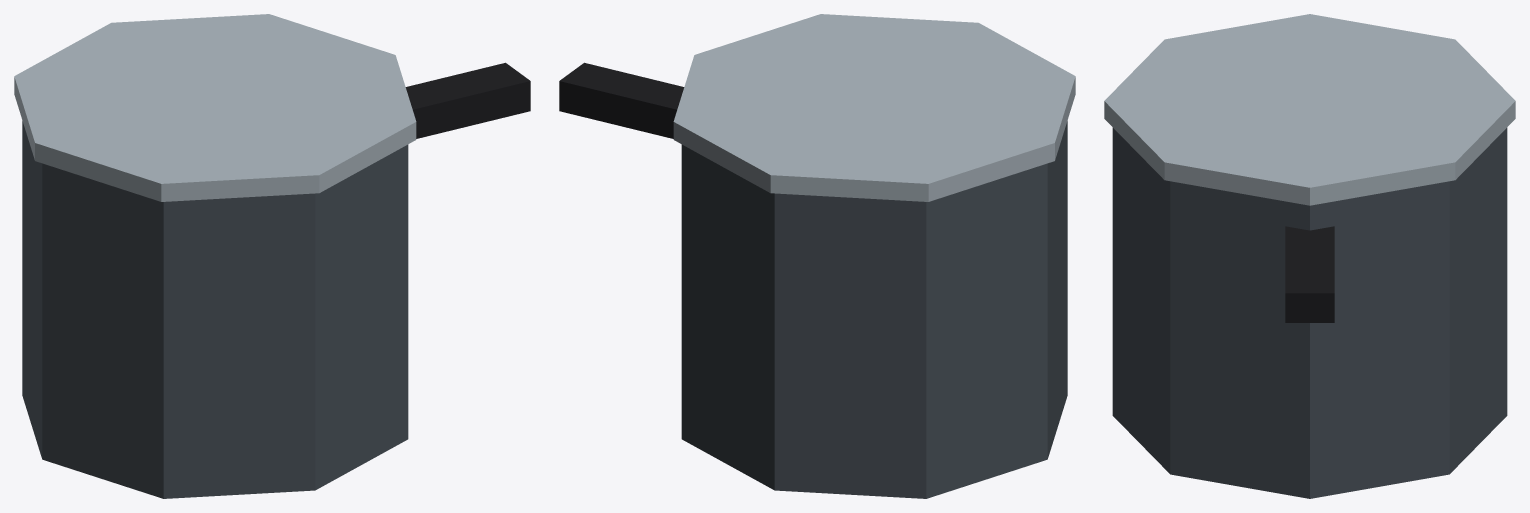
File: GH_Pot_01.glb
3 renders of one model, left to right at view 1: azimuth 30°, elevation 25°; view 2: azimuth 150°, elevation 25°; view 3: azimuth 270°, elevation 25°, orthographic.
Parts seen in each view (by area): view 1: GH_Pot_01; view 2: GH_Pot_01; view 3: GH_Pot_01.
Boxes of the visible parts, <box> form: GH_Pot_01: <box>14,14,530,498</box>; GH_Pot_01: <box>559,14,1075,498</box>; GH_Pot_01: <box>1104,14,1515,498</box>.
Size of the model in its own units: 0.335 by 0.211 by 0.25.
Materials: 1 (1 with a texture image).
